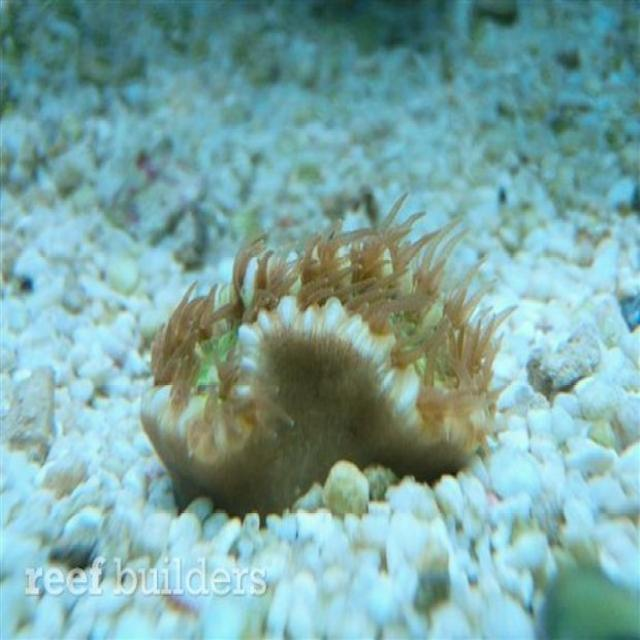Healthy Coral: (132, 202, 517, 486)
